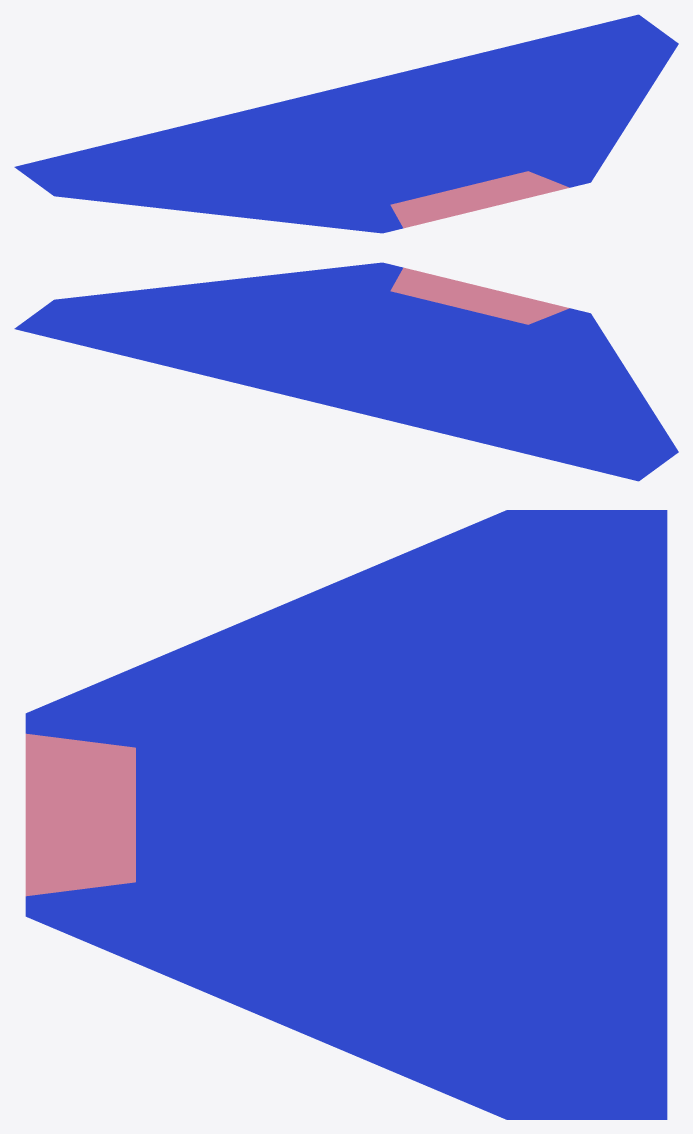
File: GroundModel.fbx
The picture shows the model from 3 angles, top to bottom: view 1: azimuth 30°, elevation 25°; view 2: azimuth 150°, elevation 25°; view 3: azimuth 270°, elevation 25°; orthographic projection. The views are drawn at different scales.
Parts seen in each view (by area): view 1: Plane.002; view 2: Plane.002; view 3: Plane.002.
Part boxes in pixels (<box>): Plane.002: <box>14,14,678,233</box>; Plane.002: <box>14,262,678,481</box>; Plane.002: <box>25,510,667,1119</box>.
Bounding box in the file's own units: 9000 × 0.000652 × 4000.
